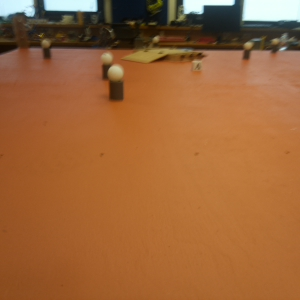blockA: (191, 60, 208, 75)
corner: (14, 14, 31, 51)
obstacle: (108, 65, 128, 107), (40, 40, 54, 58), (240, 41, 253, 60), (267, 37, 280, 55), (150, 35, 162, 45)
side: (173, 51, 206, 58)
slope: (125, 51, 168, 63)
